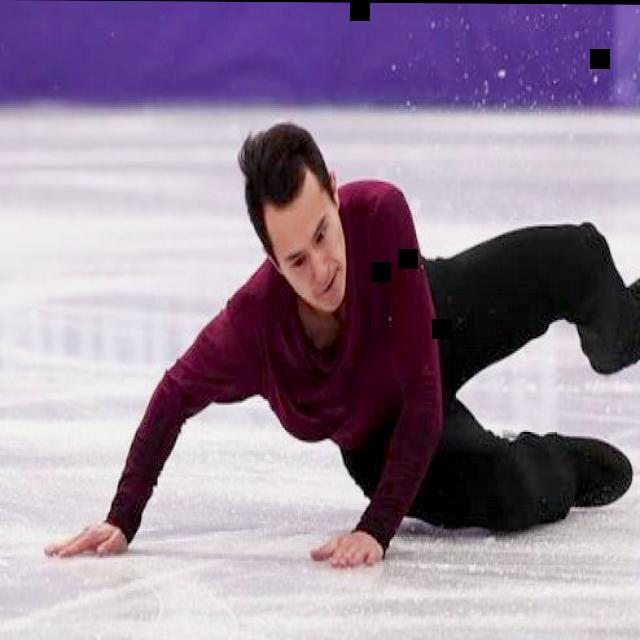Fall-Detected: (53, 66, 640, 586)
